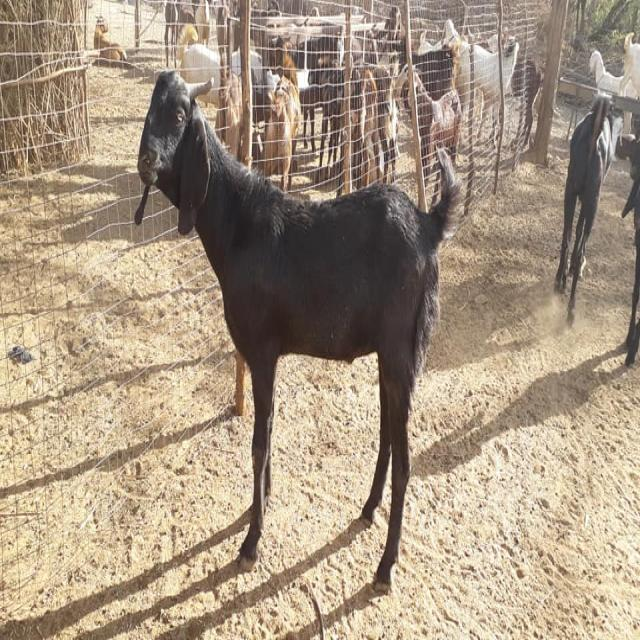Goat: (134, 66, 463, 594), (553, 94, 619, 326), (93, 14, 127, 63)
